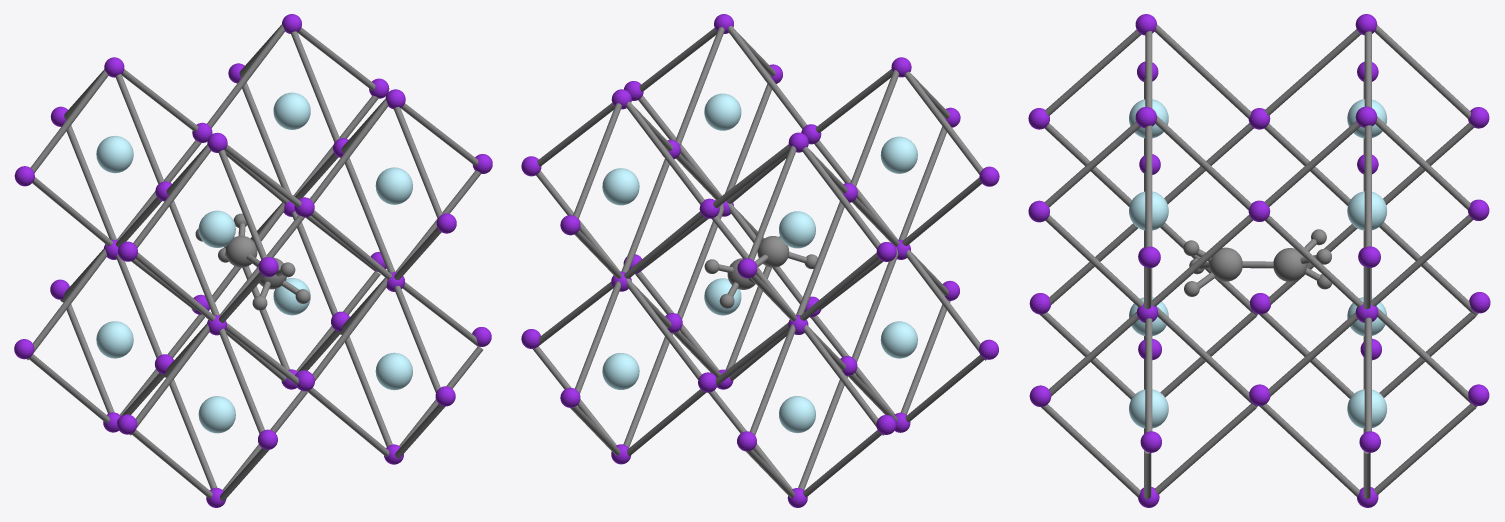
The model's file is perov_separate.gltf.
The picture shows the model from 3 angles, left to right: view 1: azimuth 30°, elevation 25°; view 2: azimuth 150°, elevation 25°; view 3: azimuth 270°, elevation 25°; orthographic projection. The views are drawn at different scales.
Parts seen in each view (by area): view 1: Sphere.013; view 2: Sphere.013; view 3: Sphere.013.
Boxes of the visible parts, x1,y1,x2,y2 form: Sphere.013: (14, 14, 492, 507); Sphere.013: (521, 14, 999, 507); Sphere.013: (1028, 14, 1490, 507).
Bounding box in the file's own units: 4.22 × 4.04 × 4.23.
